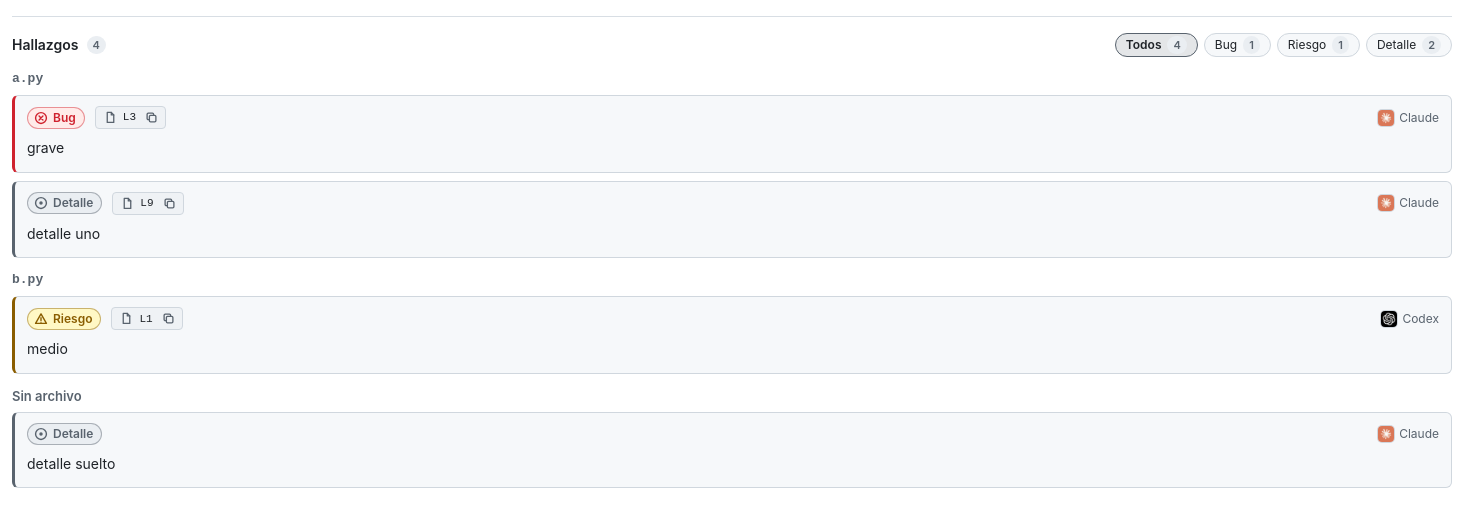
Test: FindingsPanel › drops the groups the filter empties
Click the button "Riesgo 1": (1318, 45) [1277,33,1360,57]
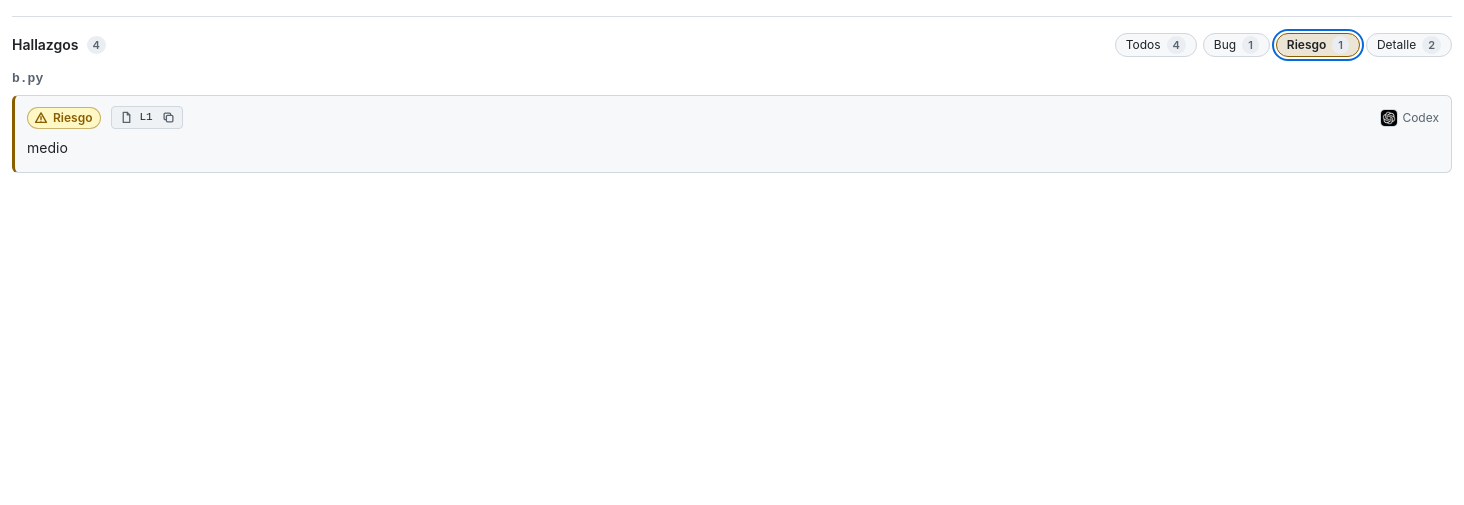
Check: the headings read "b.py", in this order, box [12,71,43,86]
